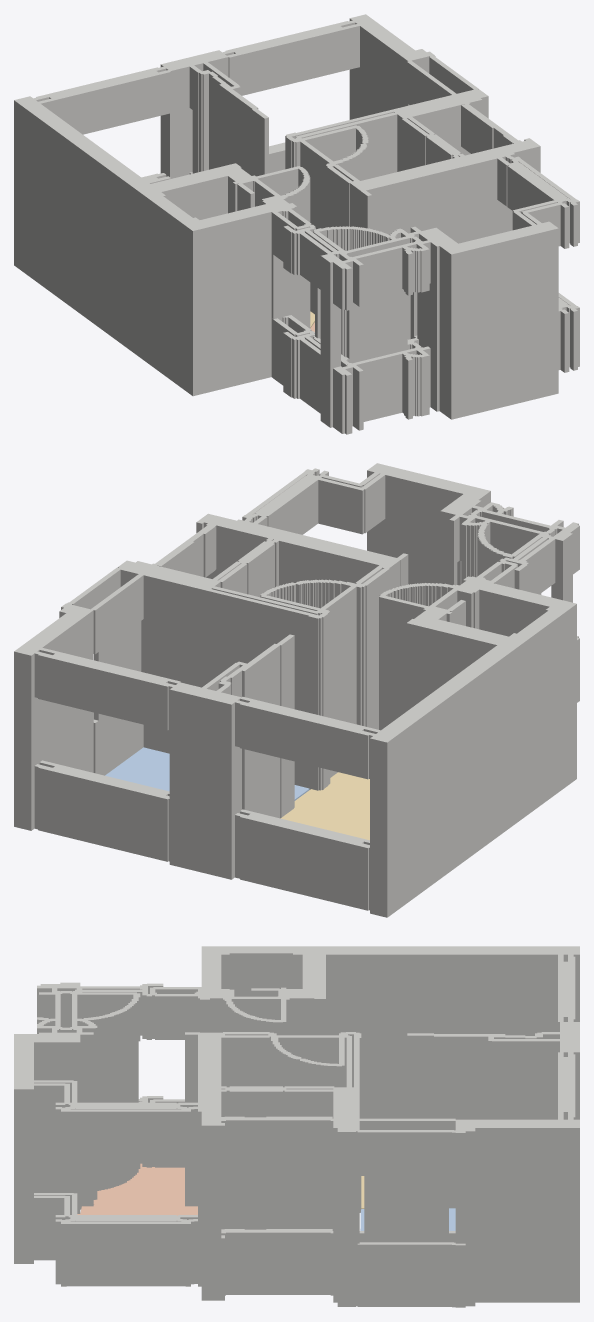
3 views of the same model, one above another, from view 1: azimuth 30°, elevation 25°; view 2: azimuth 150°, elevation 25°; view 3: azimuth 270°, elevation 25° (orthographic). The views are drawn at different scales.
Parts seen in each view (by area): view 1: walls; view 2: walls, room:living:0, room:bedroom:1; view 3: walls, room:kitchen:5.
Part boxes in pixels (<box>): walls: <box>14,14,579,434</box>; walls: <box>14,463,579,917</box>; room:living:0: <box>280,772,369,840</box>; room:bedroom:1: <box>105,747,309,800</box>; walls: <box>14,946,579,1307</box>; room:kitchen:5: <box>77,1163,197,1215</box>.
Bounding box in the file's own units: 6.42 × 2.8 × 8.22.
